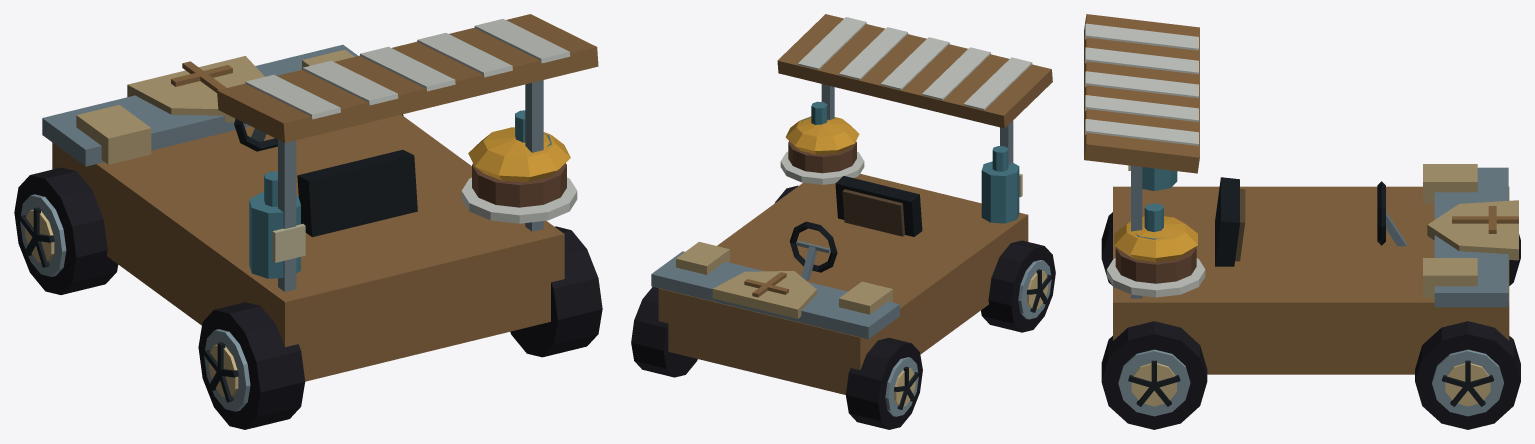
File: kart.glb
The picture shows the model from 3 angles, left to right: view 1: azimuth 30°, elevation 25°; view 2: azimuth 150°, elevation 25°; view 3: azimuth 270°, elevation 25°; orthographic projection. The views are drawn at different scales.
Parts seen in each view (by area): view 1: identity-food-cart-food-cart-counter-and-awning, wheel-rear-left, wheel-front-left, identity-food-cart-motif-food, identity-food-cart-driver-cockpit, wheel-rear-right, identity-food-cart-motif-shield, identity-food-cart-motif-bottles; view 2: identity-food-cart-food-cart-counter-and-awning, wheel-front-left, identity-food-cart-driver-cockpit, wheel-rear-left, identity-food-cart-motif-food, identity-food-cart-motif-shield, identity-food-cart-motif-bottles, wheel-front-right; view 3: identity-food-cart-food-cart-counter-and-awning, wheel-rear-right, wheel-front-right, identity-food-cart-motif-food, identity-food-cart-motif-shield, identity-food-cart-driver-cockpit, identity-food-cart-motif-bottles, wheel-rear-left.
Boxes of the visible parts, x1,y1,x2,y2 form: identity-food-cart-food-cart-counter-and-awning: [42, 14, 598, 381]; wheel-rear-left: [198, 302, 305, 429]; wheel-front-left: [14, 167, 118, 294]; identity-food-cart-motif-food: [461, 127, 577, 223]; identity-food-cart-driver-cockpit: [234, 119, 417, 237]; wheel-rear-right: [510, 226, 602, 357]; identity-food-cart-motif-shield: [127, 56, 264, 122]; identity-food-cart-motif-bottles: [249, 110, 551, 278]; identity-food-cart-food-cart-counter-and-awning: [651, 14, 1052, 394]; wheel-front-left: [846, 338, 922, 429]; identity-food-cart-driver-cockpit: [789, 176, 922, 280]; wheel-rear-left: [981, 240, 1055, 332]; identity-food-cart-motif-food: [780, 116, 864, 184]; identity-food-cart-motif-shield: [712, 271, 816, 318]; identity-food-cart-motif-bottles: [801, 101, 1022, 223]; wheel-front-right: [631, 287, 697, 377]; identity-food-cart-food-cart-counter-and-awning: [1084, 14, 1509, 374]; wheel-rear-right: [1101, 321, 1207, 429]; wheel-front-right: [1415, 321, 1520, 429]; identity-food-cart-motif-food: [1106, 216, 1205, 297]; identity-food-cart-motif-shield: [1427, 200, 1518, 260]; identity-food-cart-driver-cockpit: [1215, 177, 1406, 266]; identity-food-cart-motif-bottles: [1128, 165, 1177, 255]; wheel-rear-left: [1101, 212, 1112, 285].
Bounding box in the file's own units: 2.03 × 1.76 × 2.48.
